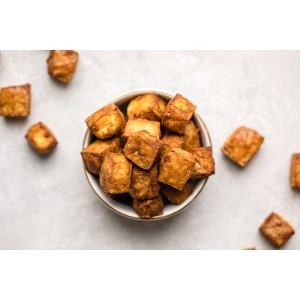tofu_brain food: (82, 90, 212, 219), (223, 124, 263, 171), (45, 48, 81, 87), (257, 214, 295, 248), (25, 121, 57, 161), (1, 77, 32, 118)
